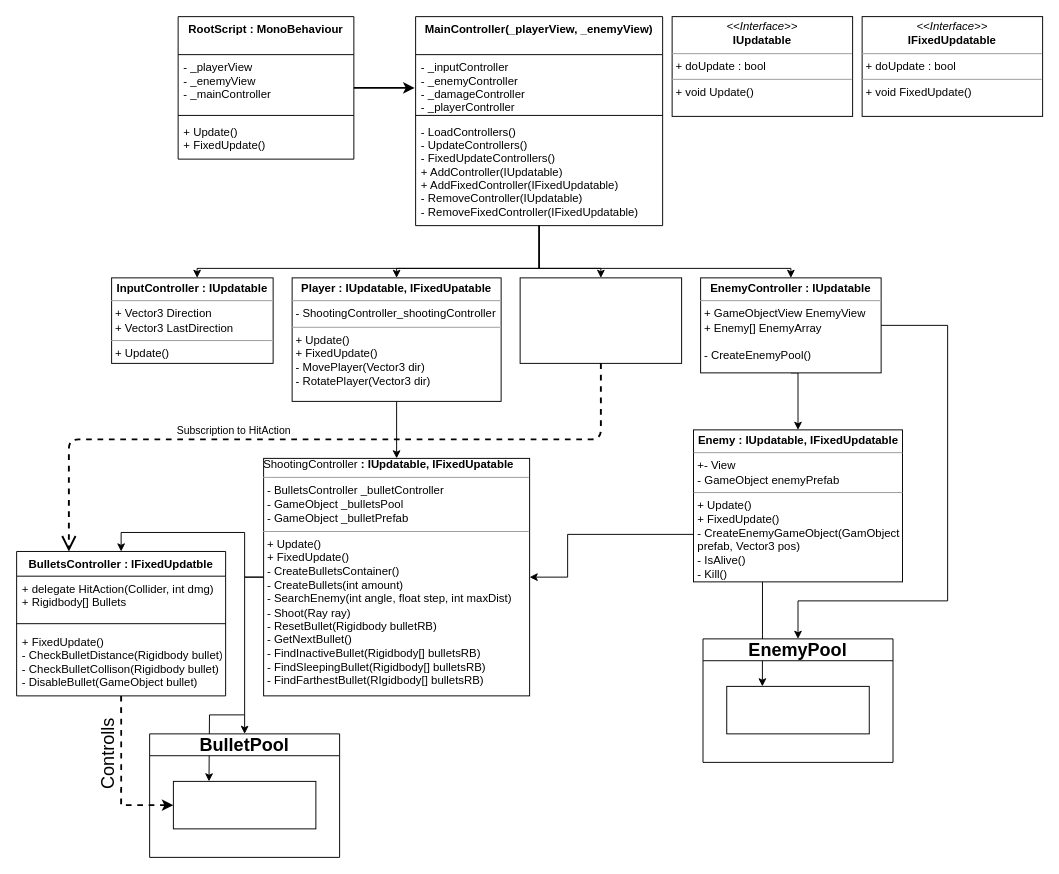
Some shapes in this 1059 by 874 pixel diagram are drawn without their labels. Each missing label, with the centre of its shape:
DamageController + DamageEnemy(Collider, int): the point at 600,320
GameObject Bullet N: the point at 244,804
GameObject Enemy N: the point at 797,709
